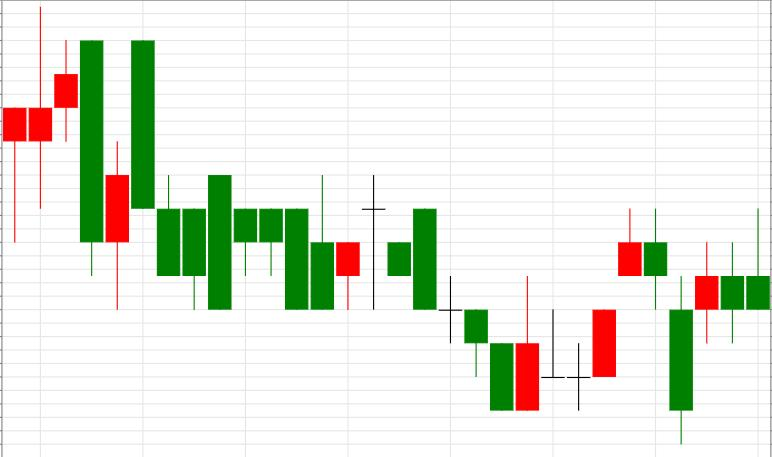bullish_engulfing_rise: (362, 174, 539, 410)
